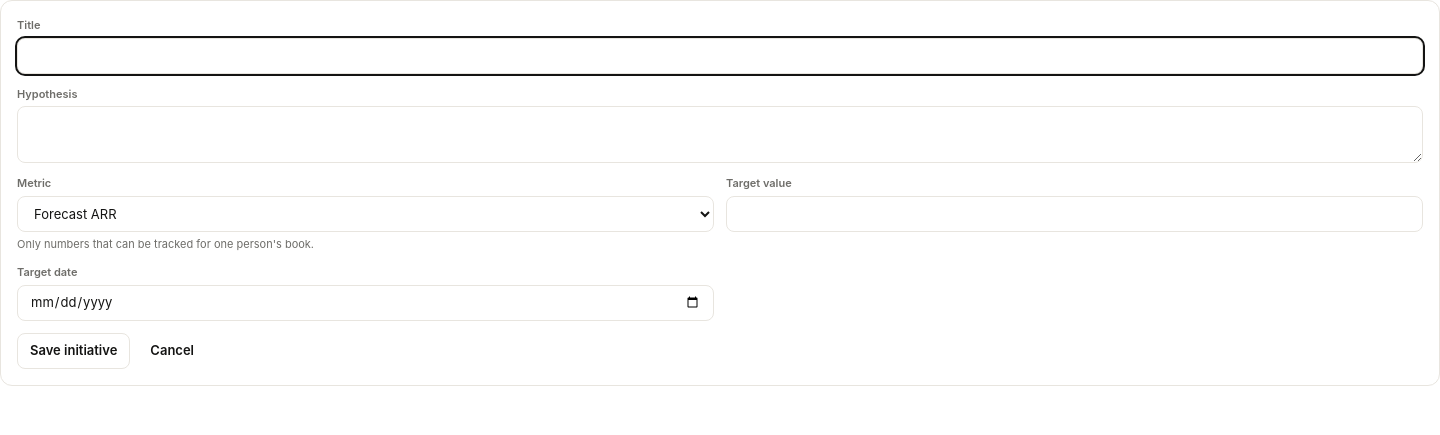
InitiativeForm (spec §2.1, Decision 3) › shows the server’s sentence at the foot of the form, focused
The width and height of the screenshot is (1440, 435).
In the field labelled "Title": x=720, y=56 [17, 38, 1423, 74], type "Halve ARR at risk on my book"
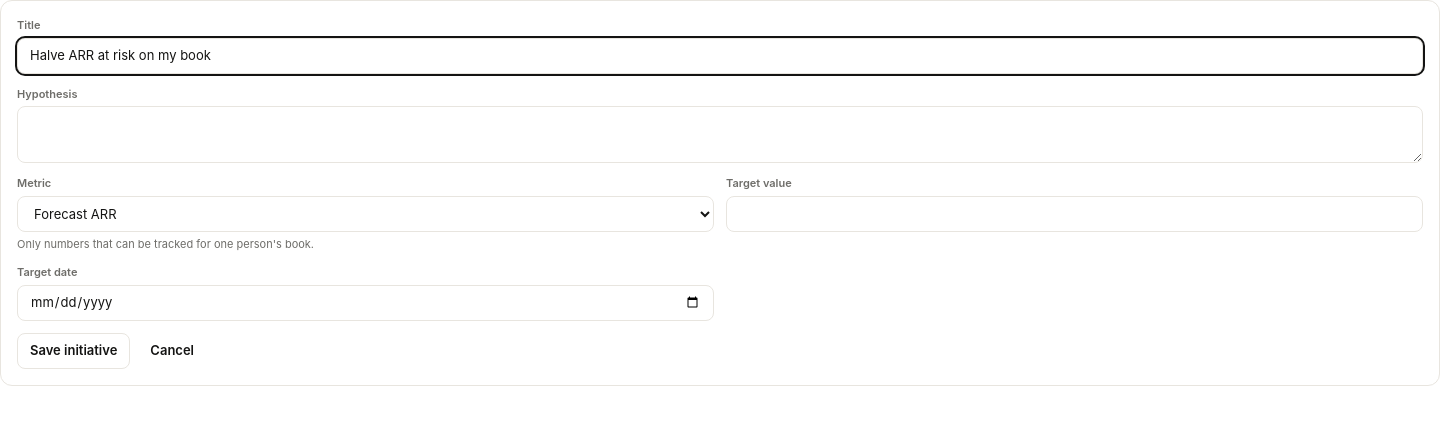
In the number field labelled "Target value": x=1074, y=214 [726, 196, 1423, 232], type "26000"
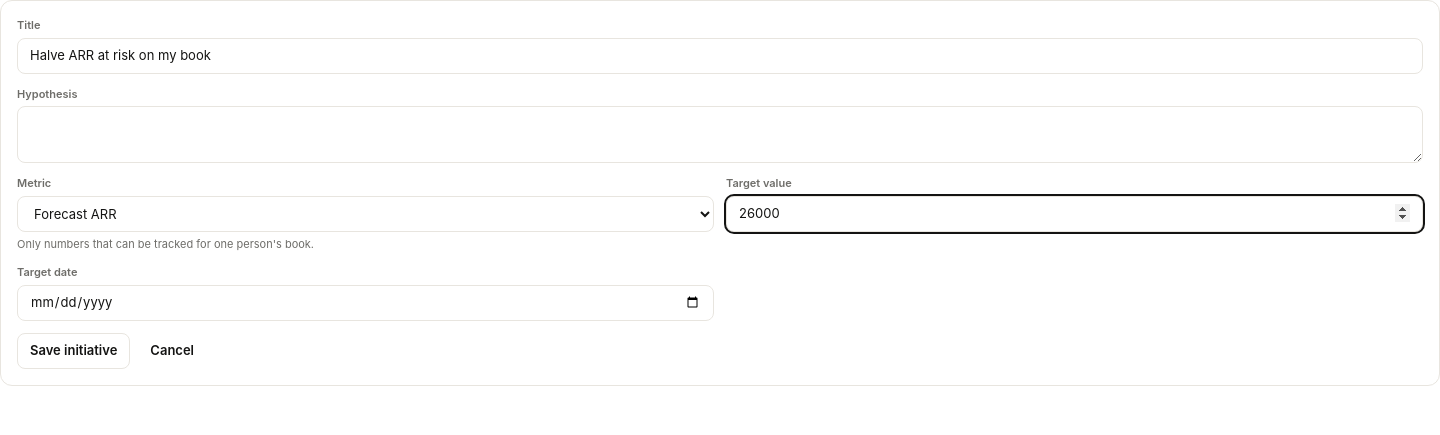
In the date field labelled "Target date": x=366, y=302 [17, 284, 714, 320], type "2026-11-30"
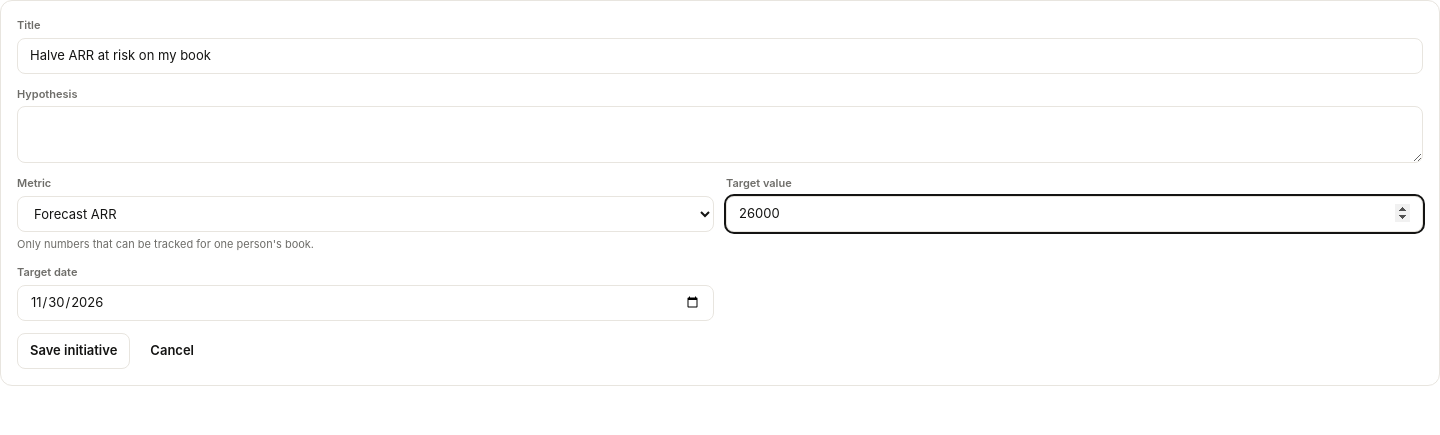
Click the button "Save initiative": x=74, y=350 [17, 332, 130, 368]
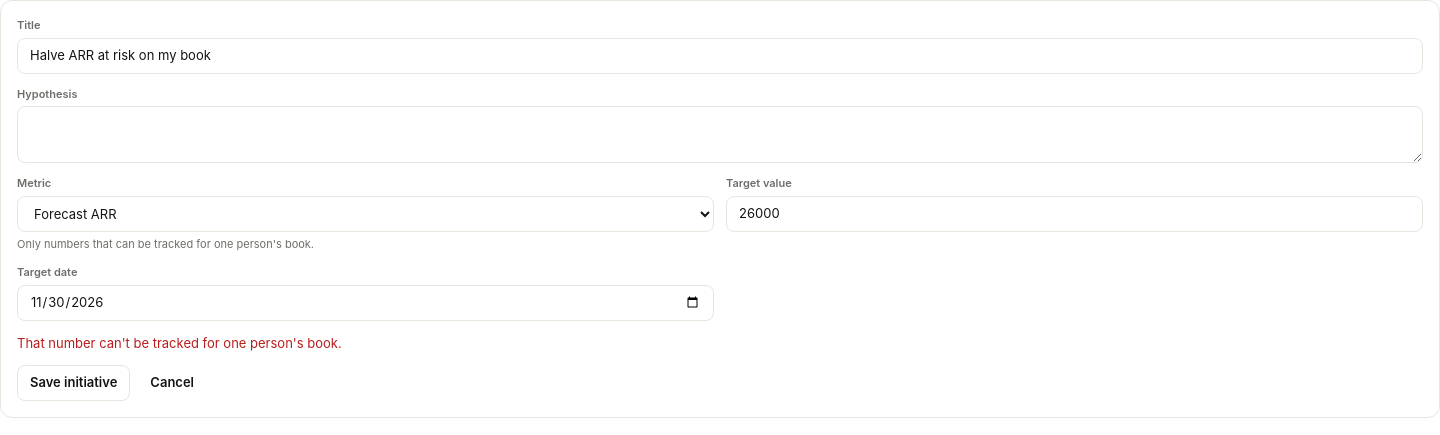
Expected: the message reads "That number can't be tracked for one person's book.", [17, 334, 342, 350]
